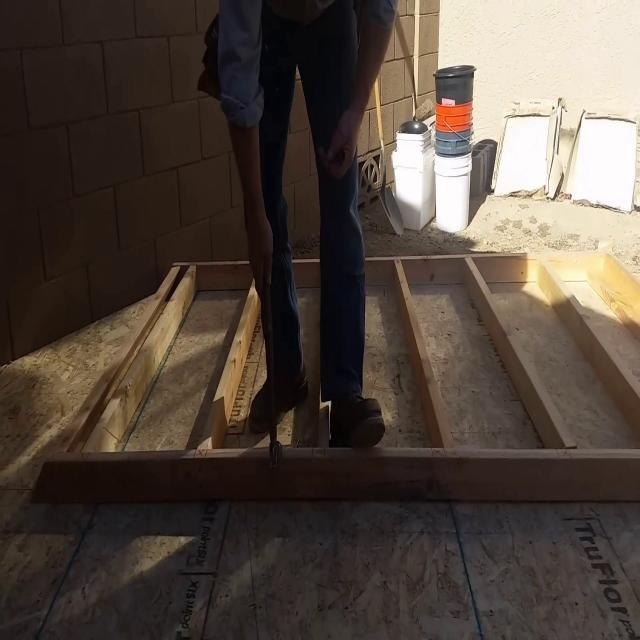hammer: (261, 274, 283, 469)
